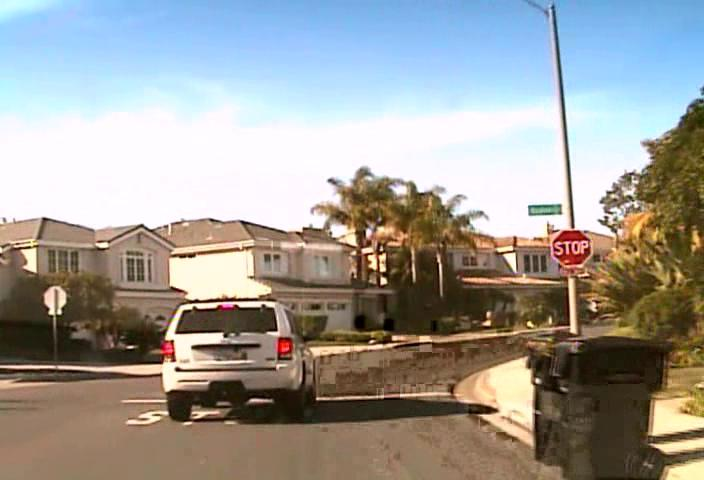stop: (551, 228, 593, 267)
